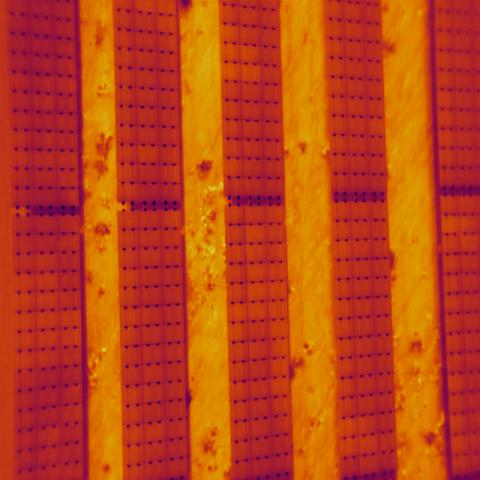fault: (138, 144, 159, 164)
